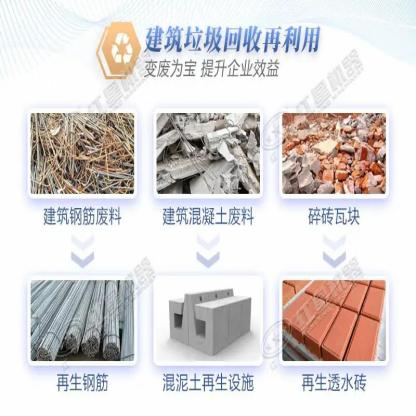rebar: (30, 111, 135, 196), (31, 281, 135, 363), (161, 113, 221, 198), (181, 113, 221, 159), (222, 115, 236, 140)
